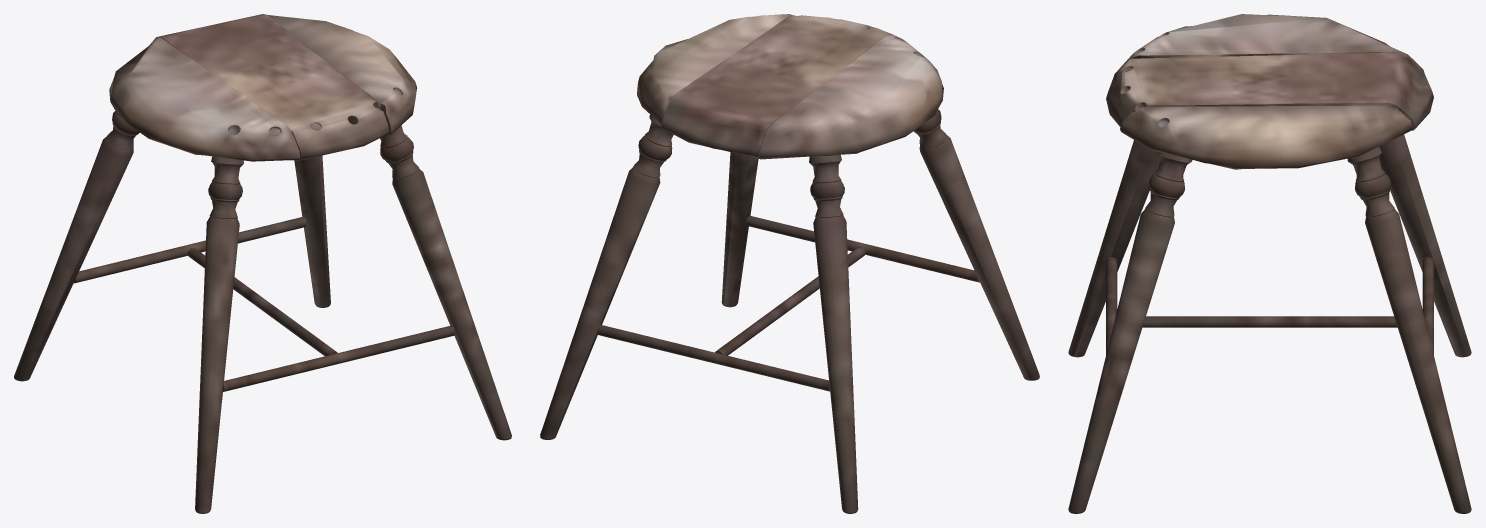
3 views of the same model, side by side, from view 1: azimuth 30°, elevation 25°; view 2: azimuth 150°, elevation 25°; view 3: azimuth 270°, elevation 25° (orthographic). The views are drawn at different scales.
Parts seen in each view (by area): view 1: wooden_stool_01; view 2: wooden_stool_01; view 3: wooden_stool_01.
Boxes of the visible parts, x1=… form: wooden_stool_01: x1=14, y1=14, x2=511, y2=513; wooden_stool_01: x1=540, y1=14, x2=1039, y2=513; wooden_stool_01: x1=1068, y1=14, x2=1471, y2=513.
Bounding box in the file's own units: 0.4254 × 0.4373 × 0.4424.
Materials: 1 (1 with a texture image).
